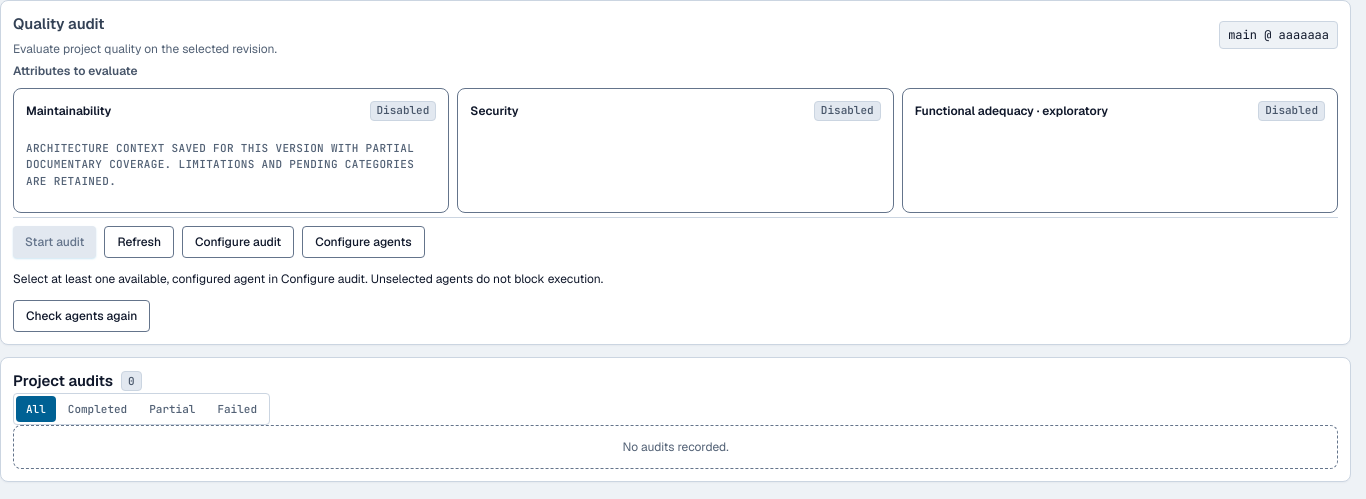
project quality audits › rechecks readiness when no default agent was initially configured
Expected: the text "Select at least one available, configured agent" is shown, x1=13 y1=271 x2=603 y2=287
Click the button "Check agents again" at (82,316), box x1=13 y1=300 x2=150 y2=332
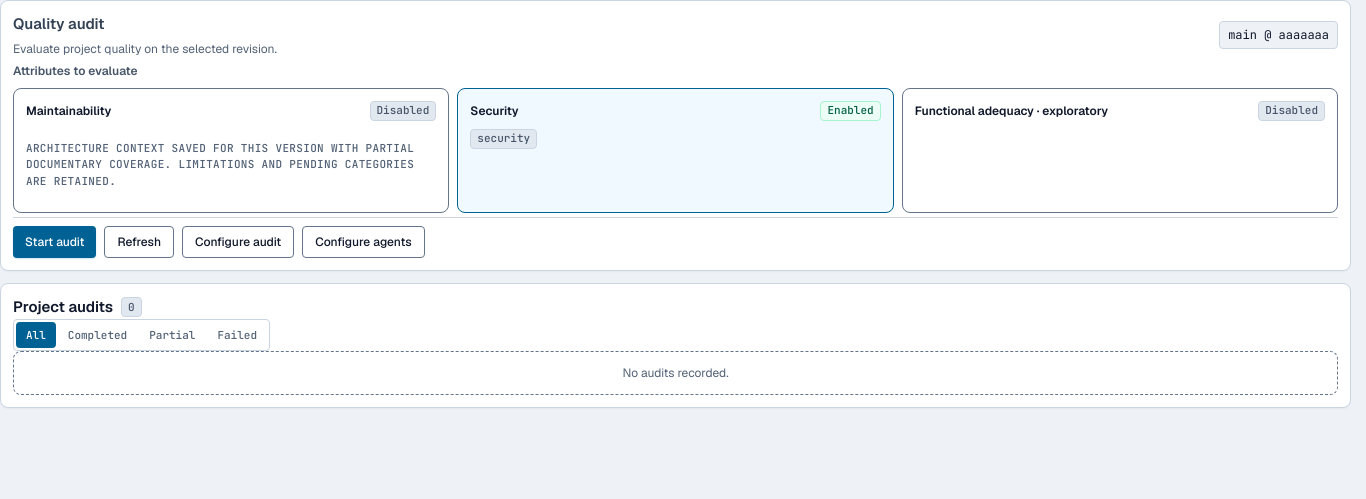
Expected: the button "Start audit" is enabled, x1=13 y1=226 x2=96 y2=258
Expected: the element "Security" shows "Enabled", x1=828 y1=103 x2=874 y2=117
